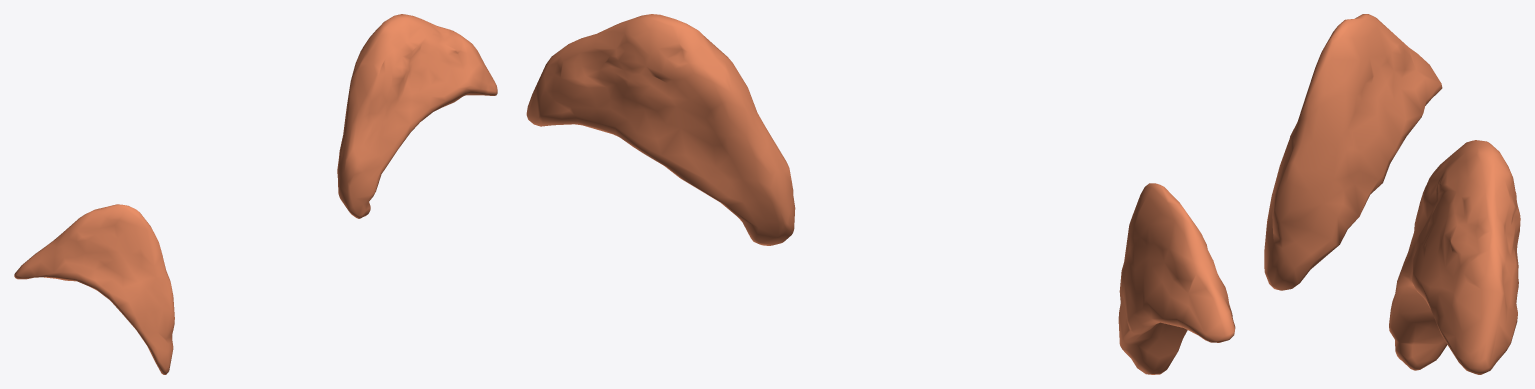
File: endocrine.glb
The picture shows the model from 3 angles, left to right: view 1: azimuth 30°, elevation 25°; view 2: azimuth 150°, elevation 25°; view 3: azimuth 270°, elevation 25°; orthographic projection. The views are drawn at different scales.
Parts seen in each view (by area): view 1: Left adrenal gland | anatomy_00857, Right adrenal gland | anatomy_00858; view 2: Left adrenal gland | anatomy_00857, Right adrenal gland | anatomy_00858; view 3: Right adrenal gland | anatomy_00858, Left adrenal gland | anatomy_00857.
Boxes of the visible parts, bbox=[...] form: Left adrenal gland | anatomy_00857: bbox=[337, 14, 497, 218]; Right adrenal gland | anatomy_00858: bbox=[14, 204, 174, 374]; Left adrenal gland | anatomy_00857: bbox=[526, 14, 795, 245]; Right adrenal gland | anatomy_00858: bbox=[1118, 183, 1235, 374]; Right adrenal gland | anatomy_00858: bbox=[1264, 14, 1442, 290]; Left adrenal gland | anatomy_00857: bbox=[1389, 140, 1520, 374].
Bounding box in the file's own units: 2.2 × 1 × 0.626.
